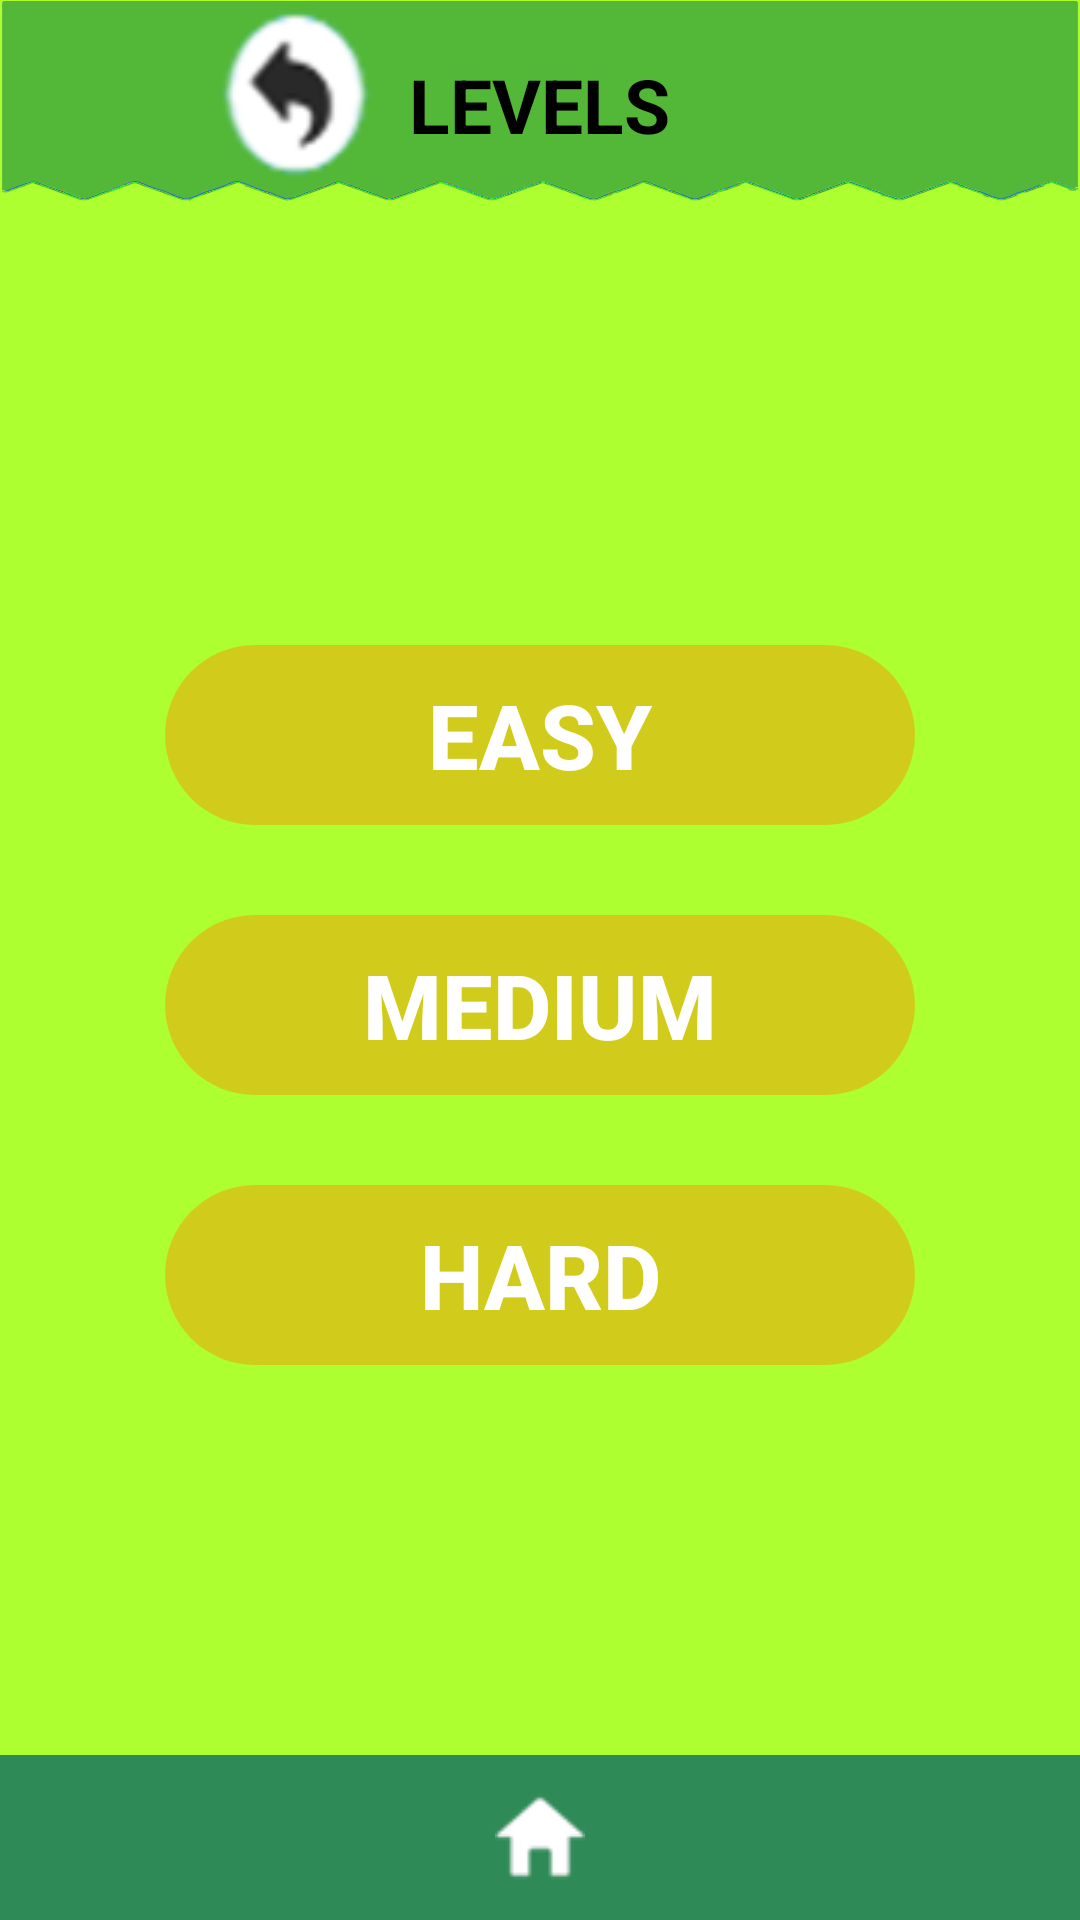

Named icons in this screenshot (1080px×1920px) and their bounding boxes, Rect(x1, y1, x2, y2):
homy: Rect(495, 1797, 585, 1877)
